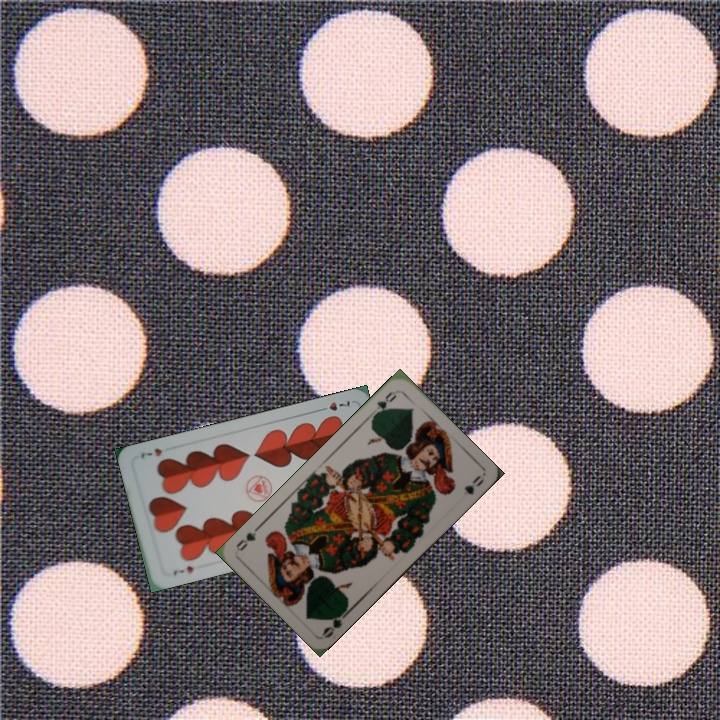GO: (319, 604, 352, 640), (369, 387, 400, 419)
H7: (314, 396, 352, 414), (169, 562, 196, 579)
